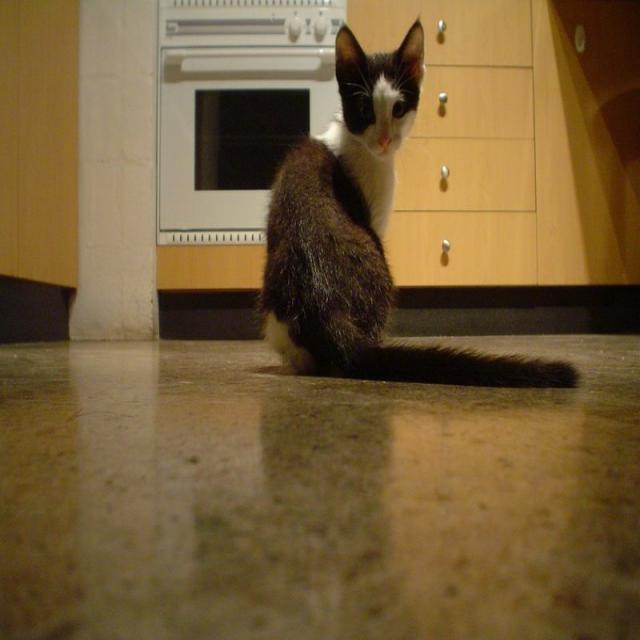cat: (256, 21, 581, 385)
cupboard: (348, 0, 639, 287)
cupboard door: (1, 2, 77, 287)
floor -X: (1, 336, 636, 634)
oven range: (153, 0, 350, 287)
partition wall: (71, 0, 157, 346)
skirting board: (156, 287, 639, 339), (2, 275, 70, 347)
